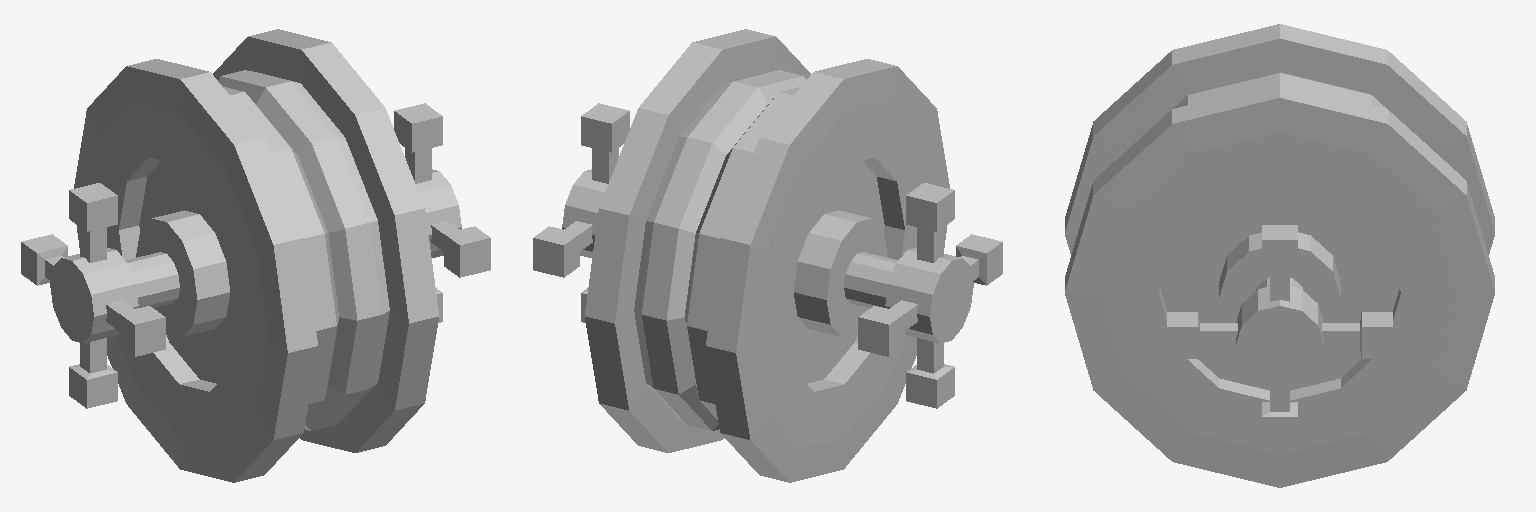
File: RopeWinchB.obj
3 renders of one model, left to right at view 1: azimuth 30°, elevation 25°; view 2: azimuth 150°, elevation 25°; view 3: azimuth 270°, elevation 25°, orthographic.
Parts seen in each view (by area): view 1: Vis.001_Vis.004; view 2: Vis.001_Vis.004; view 3: Vis.001_Vis.004.
Part boxes in pixels (left/top/right/bottom): Vis.001_Vis.004: left=21, top=29, right=490, bottom=482; Vis.001_Vis.004: left=533, top=29, right=1002, bottom=482; Vis.001_Vis.004: left=1065, top=24, right=1494, bottom=487.
Bounding box in the file's own units: 2.37 × 2.41 × 2.41.